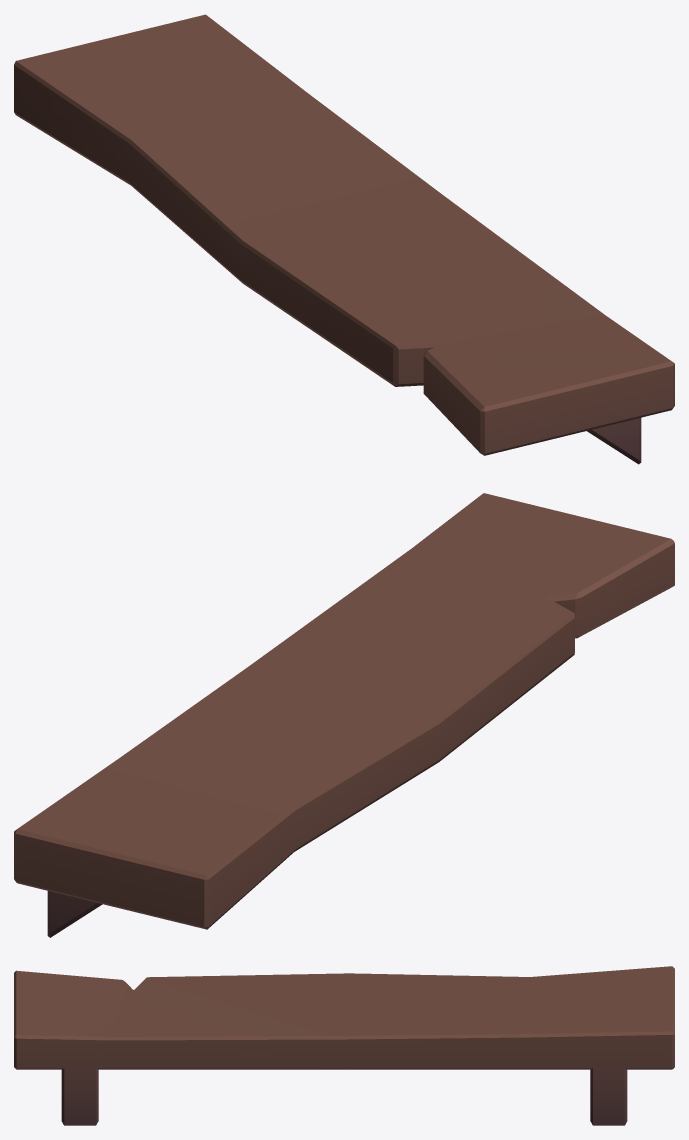
File: SM_Shelf.fbx
The picture shows the model from 3 angles, top to bottom: view 1: azimuth 30°, elevation 25°; view 2: azimuth 150°, elevation 25°; view 3: azimuth 270°, elevation 25°; orthographic projection. The views are drawn at different scales.
Parts seen in each view (by area): view 1: shelf; view 2: shelf; view 3: shelf.
Part boxes in pixels (bbox=[...]): shelf: bbox=[14, 14, 674, 464]; shelf: bbox=[14, 493, 674, 937]; shelf: bbox=[14, 966, 674, 1125].
Bounding box in the file's own units: 30.27 × 19.65 × 125.
